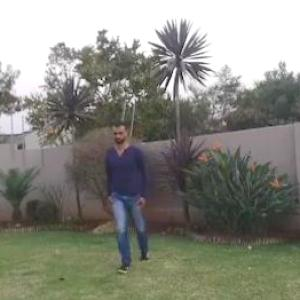follow: (109, 124, 148, 258)
